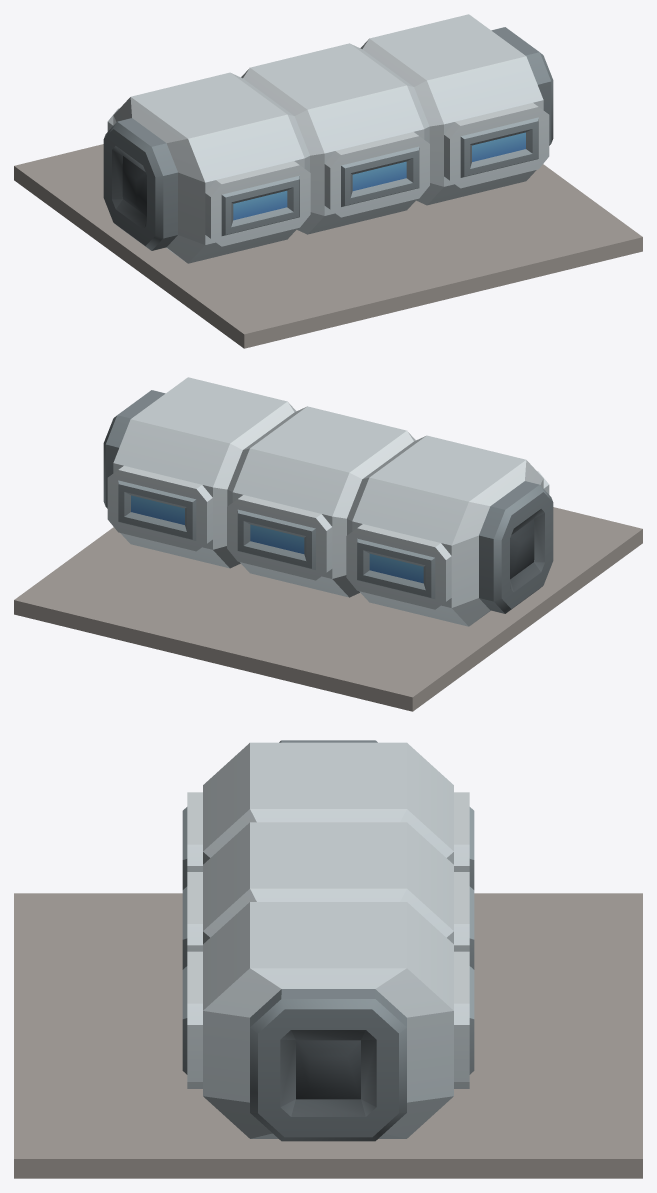
Rendered from connection_tunnel.glb.
3 views of the same model, one above another, from view 1: azimuth 30°, elevation 25°; view 2: azimuth 150°, elevation 25°; view 3: azimuth 270°, elevation 25° (orthographic). The views are drawn at different scales.
Parts seen in each view (by area): view 1: Connection Tunnel; view 2: Connection Tunnel; view 3: Connection Tunnel.
Part boxes in pixels (x1,y1,x2,y2): Connection Tunnel: [14, 14, 642, 348]; Connection Tunnel: [14, 377, 642, 711]; Connection Tunnel: [14, 740, 642, 1178].
Size of the model in its own units: 0.29 by 0.0968 by 0.29.
Materials: 1 (1 with a texture image).
